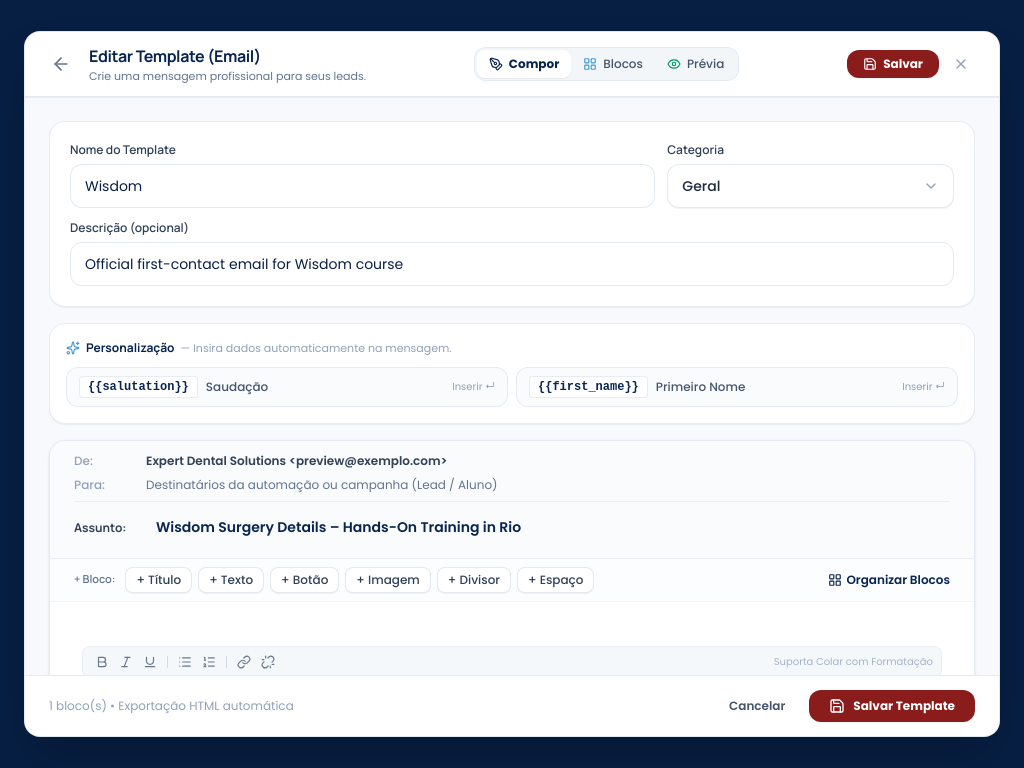
Email Template Editor Canonical Sync & Rich-Text Audit › 5. Functional Save Updates Canonical Record › saves updated content into email_templates table preserving blocks and html
# Click Salvar Template
Step 1. Click the button "Salvar Template" → click(892, 706), box [809,690,975,722]
(page scrolled)
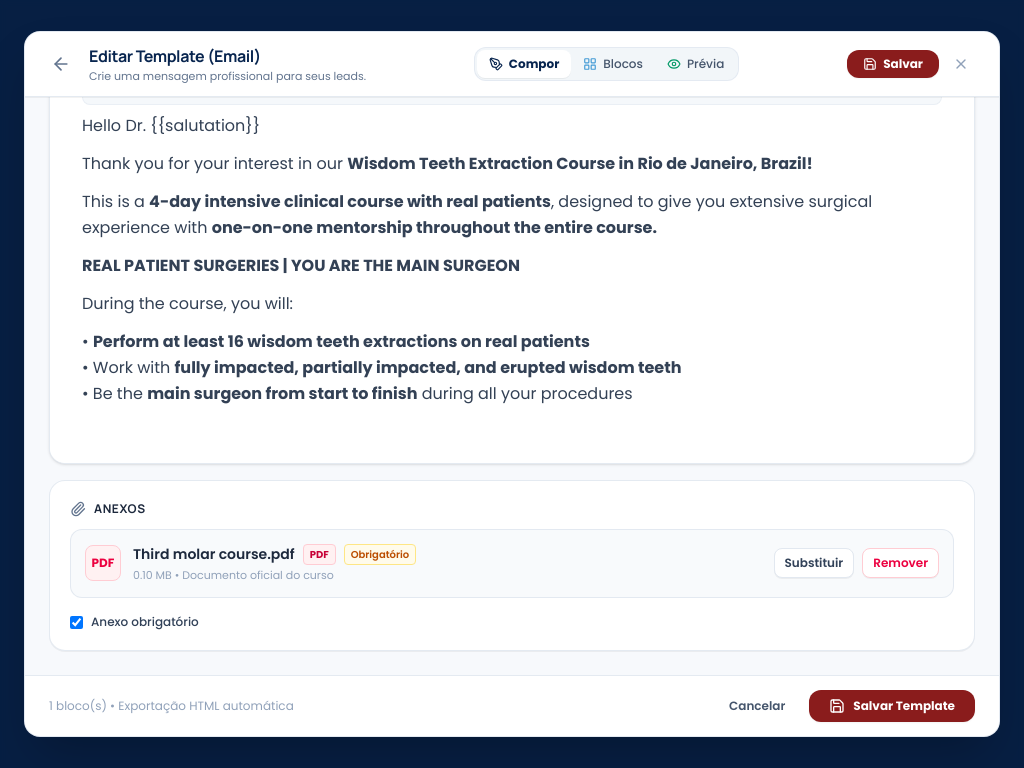
Expected: the text "Third molar course.pdf" is shown, [133,544,295,564]
